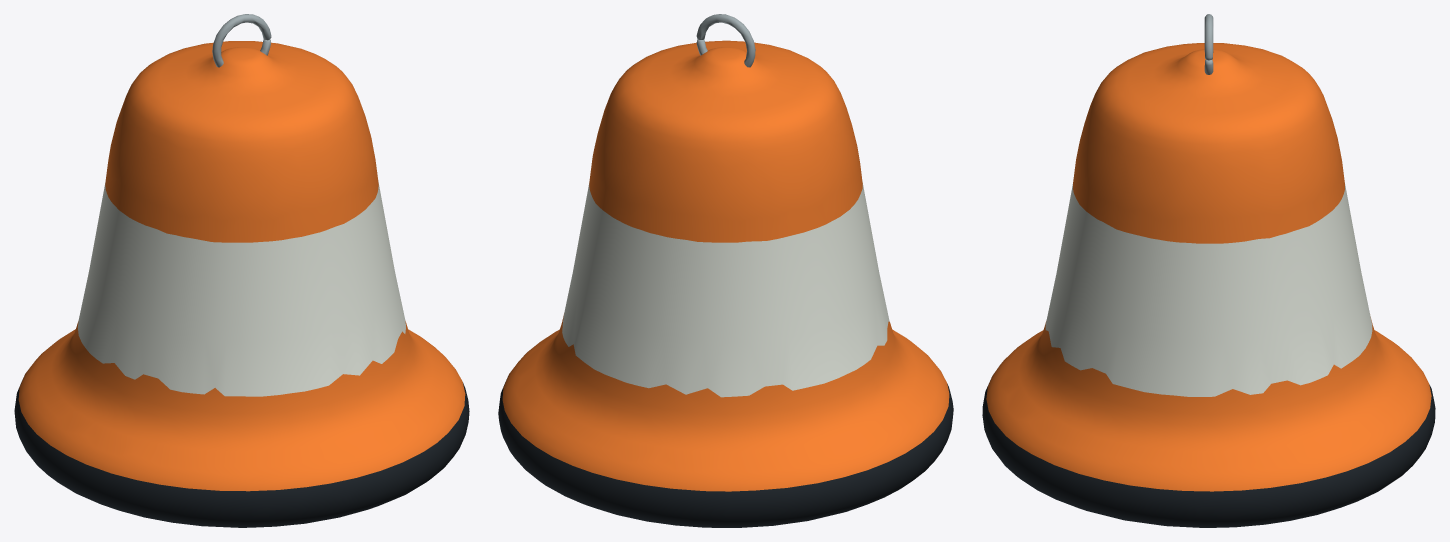
The model's file is Course_buoy_LOD1.glb.
3 views of the same model, side by side, from view 1: azimuth 30°, elevation 25°; view 2: azimuth 150°, elevation 25°; view 3: azimuth 270°, elevation 25° (orthographic).
Visible parts, largest first — view 1: Course_buoy_GameMesh; view 2: Course_buoy_GameMesh; view 3: Course_buoy_GameMesh.
Boxes of the visible parts, bbox=[...] form: Course_buoy_GameMesh: bbox=[14, 14, 469, 527]; Course_buoy_GameMesh: bbox=[498, 14, 953, 527]; Course_buoy_GameMesh: bbox=[982, 14, 1435, 527].
Bounding box in the file's own units: 0.8527 × 0.9196 × 0.8527.
